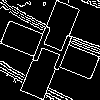H: (25, 25, 76, 81)
